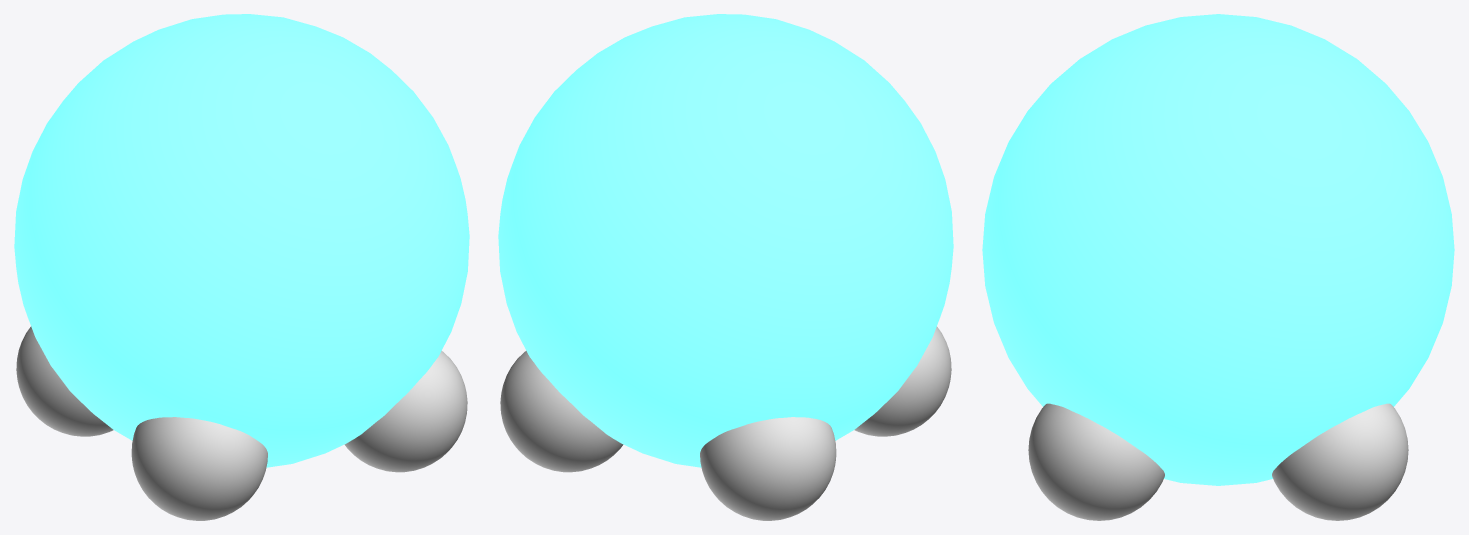
Rendered from Player.glb.
3 renders of one model, left to right at view 1: azimuth 30°, elevation 25°; view 2: azimuth 150°, elevation 25°; view 3: azimuth 270°, elevation 25°, orthographic. The views are drawn at different scales.
Parts seen in each view (by area): view 1: Icosphere, Icosphere.003, Icosphere.002, Icosphere.001; view 2: Icosphere, Icosphere.001, Icosphere.005, Icosphere.003; view 3: Icosphere, Icosphere.005, Icosphere.002.
Part boxes in pixels (box(x1,y1,x2,y2)): Icosphere: box(14, 14, 469, 467); Icosphere.003: box(131, 417, 267, 520); Icosphere.002: box(344, 351, 467, 472); Icosphere.001: box(16, 326, 113, 436); Icosphere: box(498, 14, 953, 467); Icosphere.001: box(700, 417, 836, 520); Icosphere.005: box(500, 351, 623, 472); Icosphere.003: box(854, 326, 951, 436); Icosphere: box(982, 14, 1454, 485); Icosphere.005: box(1272, 403, 1408, 520); Icosphere.002: box(1028, 403, 1164, 520).
Size of the model in its own units: 1 by 1 by 1.
